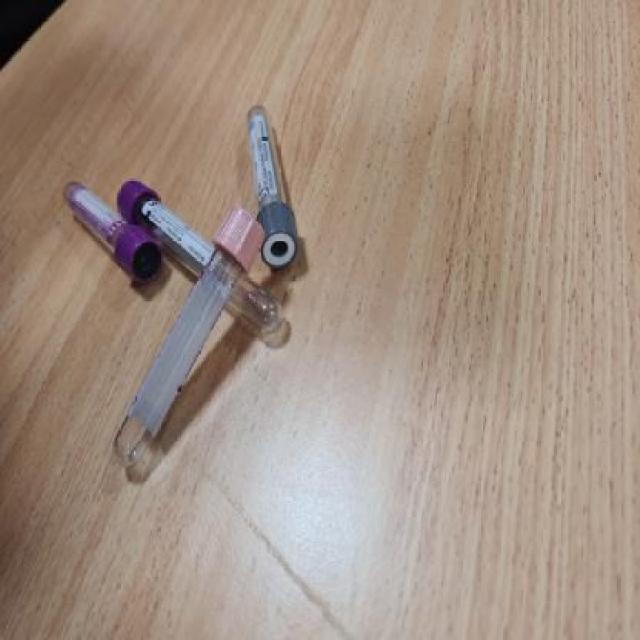Experimental-tube: (109, 204, 269, 468), (116, 179, 284, 338), (64, 181, 162, 287), (247, 102, 296, 269)
